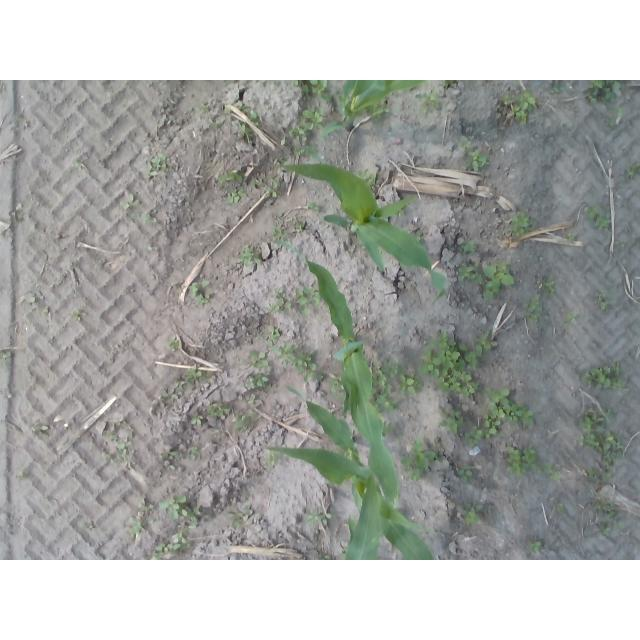Maize: (267, 237, 400, 508), (256, 384, 436, 560), (278, 162, 447, 304), (320, 81, 426, 135)
Weeds: (421, 339, 479, 397), (487, 387, 534, 428), (579, 432, 626, 465), (372, 365, 398, 408), (482, 267, 514, 301), (587, 363, 625, 390), (401, 440, 435, 469), (276, 341, 313, 367), (440, 406, 464, 435), (484, 407, 505, 438), (416, 87, 441, 113), (159, 496, 186, 519), (299, 286, 321, 314), (508, 447, 527, 477), (595, 80, 622, 100), (460, 503, 484, 524), (302, 109, 323, 132), (510, 212, 530, 236), (237, 246, 261, 266), (305, 507, 331, 525), (293, 80, 327, 92), (297, 363, 317, 382), (398, 375, 419, 393), (123, 518, 145, 535), (207, 402, 230, 418), (248, 373, 269, 390), (248, 350, 269, 367), (120, 193, 141, 209), (457, 263, 475, 281), (519, 91, 536, 110), (182, 506, 202, 522), (106, 451, 130, 464), (523, 445, 537, 467), (464, 427, 480, 446), (429, 331, 448, 347), (233, 415, 253, 430), (595, 501, 616, 515), (146, 157, 162, 175), (474, 335, 492, 351), (268, 325, 281, 347), (405, 467, 425, 481), (170, 533, 186, 550), (264, 181, 280, 198), (181, 369, 203, 381), (229, 512, 244, 529), (263, 452, 279, 467), (184, 445, 201, 459), (358, 169, 375, 183), (195, 293, 214, 305), (155, 544, 170, 559), (595, 215, 610, 230), (289, 125, 304, 140), (191, 280, 209, 292), (434, 438, 443, 462), (590, 409, 605, 423), (461, 239, 475, 254), (162, 446, 179, 458), (579, 416, 593, 430), (243, 504, 254, 521), (460, 467, 473, 481), (273, 226, 288, 238), (218, 174, 234, 185), (529, 294, 540, 310), (332, 375, 341, 394), (236, 100, 249, 113), (163, 390, 178, 401), (71, 309, 86, 320), (116, 439, 132, 449), (278, 298, 291, 310), (190, 414, 203, 426), (626, 164, 638, 177), (517, 109, 528, 123), (139, 499, 154, 509), (586, 206, 598, 218), (370, 105, 383, 116), (239, 124, 250, 137), (473, 155, 487, 165), (537, 465, 552, 474), (227, 192, 239, 203), (585, 92, 597, 103), (589, 80, 602, 90), (249, 112, 259, 125), (272, 288, 283, 299), (169, 338, 179, 350), (601, 524, 611, 536), (32, 425, 49, 432), (158, 154, 167, 167), (1, 350, 8, 366), (613, 521, 624, 531), (595, 292, 607, 301), (82, 521, 95, 529), (458, 141, 471, 149), (171, 381, 185, 388), (144, 214, 156, 222), (17, 470, 27, 479), (109, 433, 119, 442), (74, 160, 84, 169), (566, 311, 575, 321), (498, 261, 507, 271), (470, 149, 479, 159), (511, 105, 520, 115), (440, 80, 455, 86), (296, 221, 305, 231), (589, 470, 597, 481), (531, 542, 542, 550), (309, 202, 320, 210), (268, 305, 280, 312), (474, 274, 483, 283), (615, 105, 624, 114), (504, 96, 513, 105), (198, 104, 208, 112), (235, 174, 245, 182), (606, 409, 614, 419), (596, 424, 606, 432), (529, 314, 539, 322), (599, 301, 607, 311), (318, 554, 331, 560), (568, 232, 577, 240), (237, 189, 247, 196), (549, 87, 559, 94), (42, 307, 50, 315), (390, 365, 398, 373), (546, 282, 555, 289), (23, 119, 28, 129), (605, 471, 612, 478), (554, 473, 561, 480), (29, 296, 35, 302), (557, 503, 563, 509), (213, 124, 220, 129)
